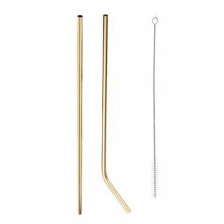drinking_straw: (96, 10, 135, 218), (72, 10, 87, 219)
